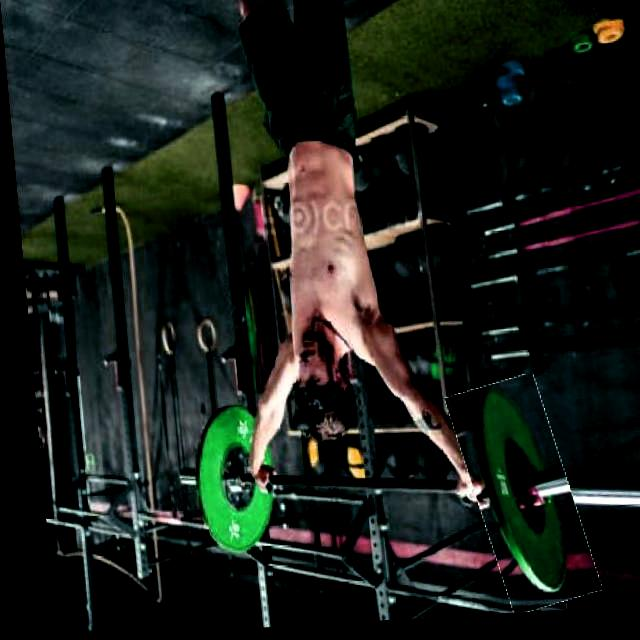barbell: (447, 382, 580, 620)
